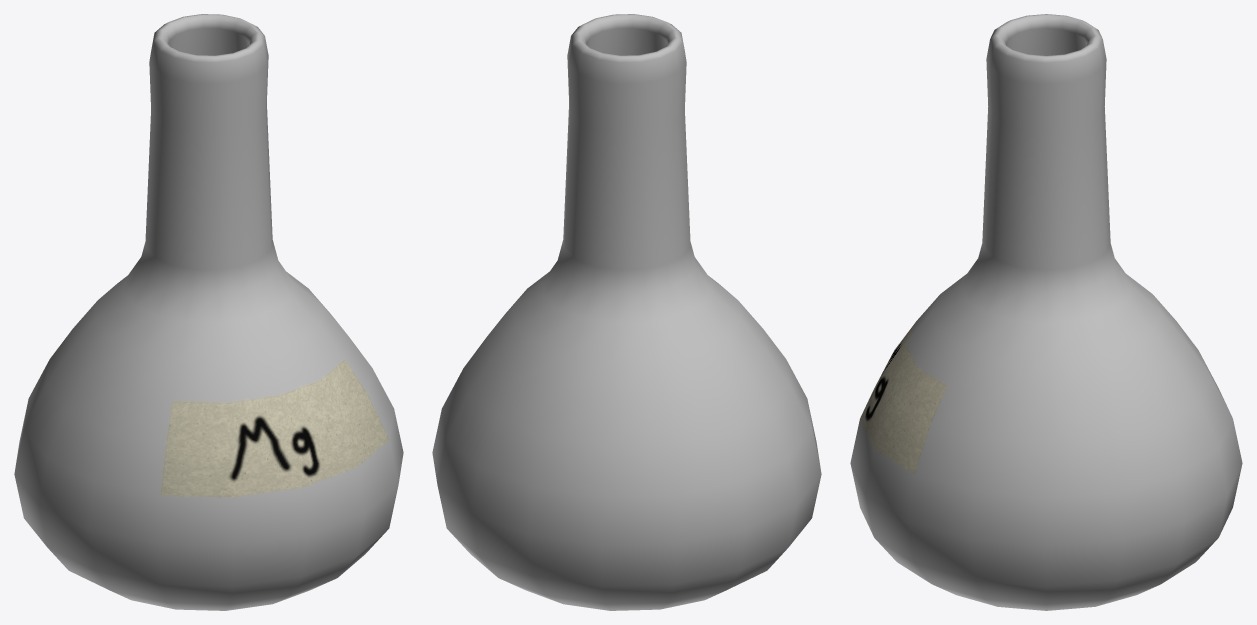
File: Magnesium Beaker.fbx
The picture shows the model from 3 angles, left to right: view 1: azimuth 30°, elevation 25°; view 2: azimuth 150°, elevation 25°; view 3: azimuth 270°, elevation 25°; orthographic projection.
Visible parts, largest first — view 1: pCylinder5; view 2: pCylinder5; view 3: pCylinder5.
Boxes of the visible parts, x1,y1,x2,y2 form: pCylinder5: [14, 14, 403, 610]; pCylinder5: [432, 14, 821, 610]; pCylinder5: [850, 14, 1242, 610].
Bounding box in the file's own units: 1.37 × 2.01 × 1.37.
1 material, 1 textured.
